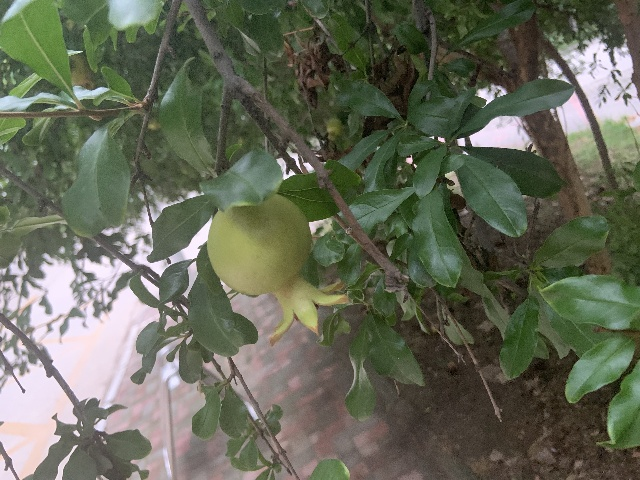mid-growth: (207, 193, 350, 344)
